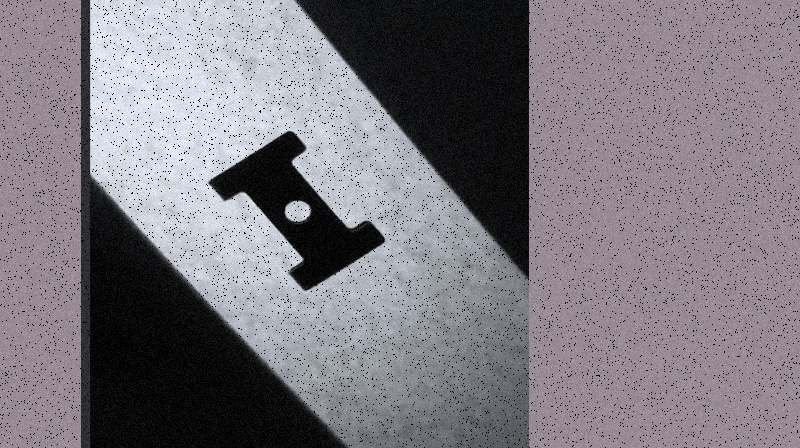O002: (203, 125, 385, 293)
